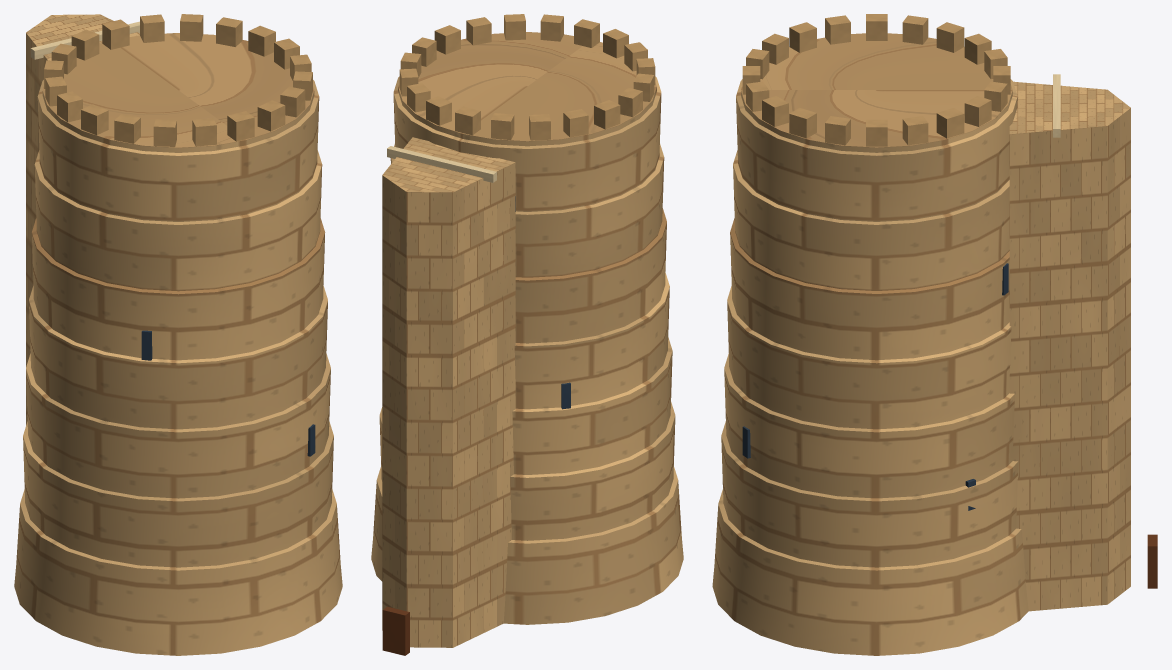
The model's file is env_baku_tower.glb.
3 renders of one model, left to right at view 1: azimuth 30°, elevation 25°; view 2: azimuth 150°, elevation 25°; view 3: azimuth 270°, elevation 25°, orthographic. The views are drawn at different scales.
Visible parts, largest first — view 1: env_baku_tower; view 2: env_baku_tower; view 3: env_baku_tower.
Boxes of the visible parts, <box> form: env_baku_tower: <box>14,14,342,655</box>; env_baku_tower: <box>371,14,683,655</box>; env_baku_tower: <box>712,14,1157,655</box>.
Bounding box in the file's own units: 16.8 × 29.1 × 22.75.
Materials: 1 (1 with a texture image).
